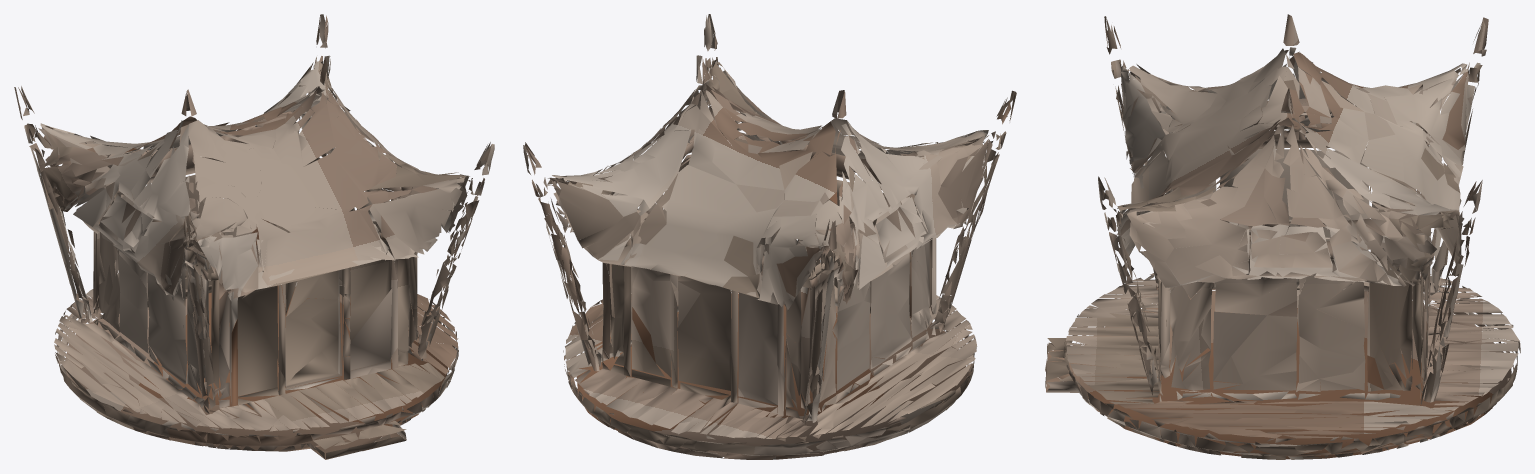
Rendered from glamp.glb.
3 views of the same model, side by side, from view 1: azimuth 30°, elevation 25°; view 2: azimuth 150°, elevation 25°; view 3: azimuth 270°, elevation 25° (orthographic). The views are drawn at different scales.
Parts seen in each view (by area): view 1: LO.001; view 2: LO.001; view 3: LO.001.
Boxes of the visible parts, left/top/right/bottom form: LO.001: left=14, top=14, right=494, bottom=459; LO.001: left=523, top=14, right=1016, bottom=459; LO.001: left=1045, top=14, right=1520, bottom=459.
Bounding box in the file's own units: 1.76 × 1.42 × 1.91.
1 material, 1 textured.
